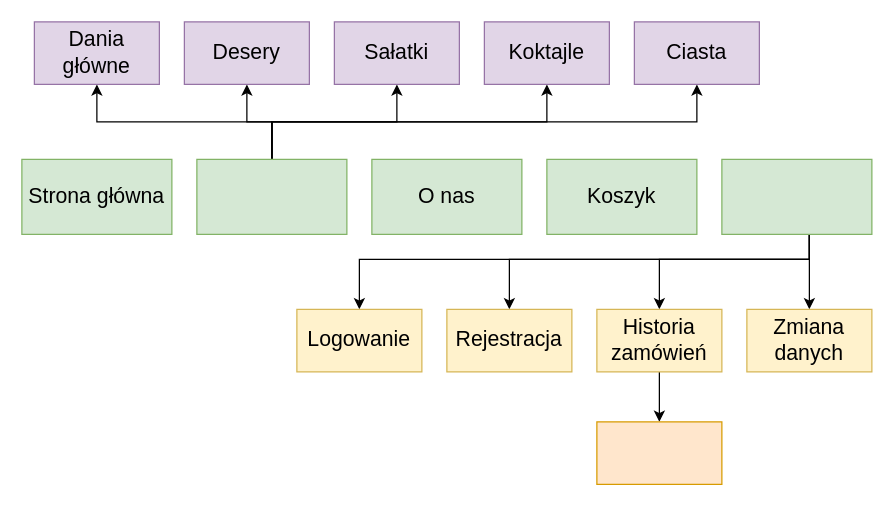
Some shapes in this 894 by 506 pixel diagram are drawn without their labels. The centre of each missing label's shape, as x and y in pixels:
Profil: pixel 796 196
Zamów: pixel 271 196
Zamówienie: pixel 659 452
